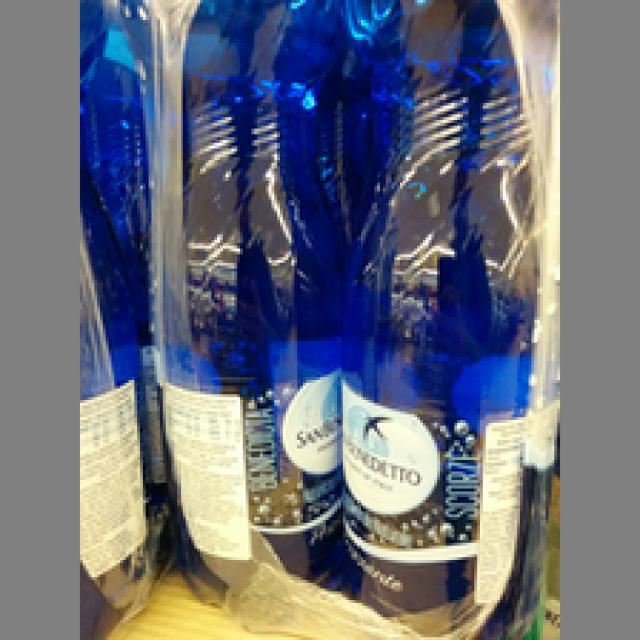groceries: (343, 0, 526, 629), (174, 0, 346, 586)
